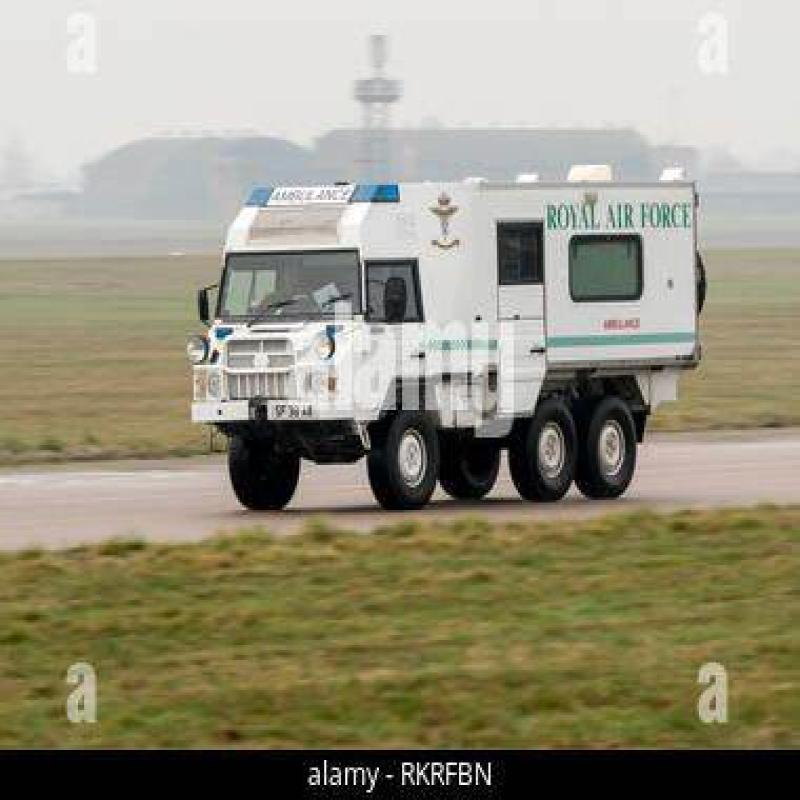AmbulanceSiren: (240, 177, 404, 219)
